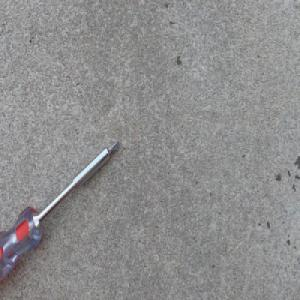Screwdriver: (0, 139, 121, 281)
